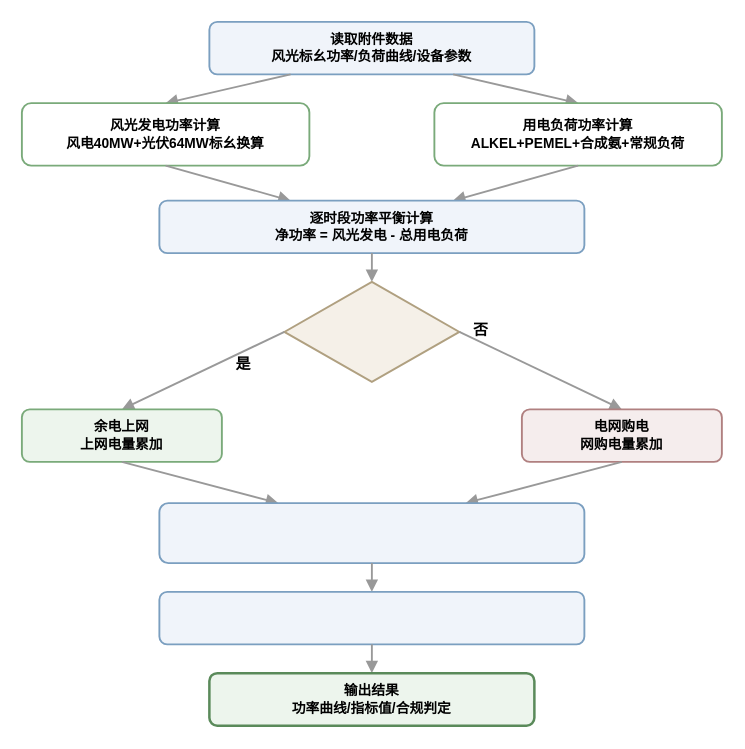
The diagram is 745 pixels wide and 749 high, and some of its shapes have lost their labels. The centre of each missing label's shape, as x and y in pixels:
净功率是否为正?: the point at 371,331
计算吨氨成本 (购电费-售电收益)/日产氨量: the point at 371,617
计算绿电直连三项指标 自用率/绿电比/上网比 合规判定: the point at 371,533
